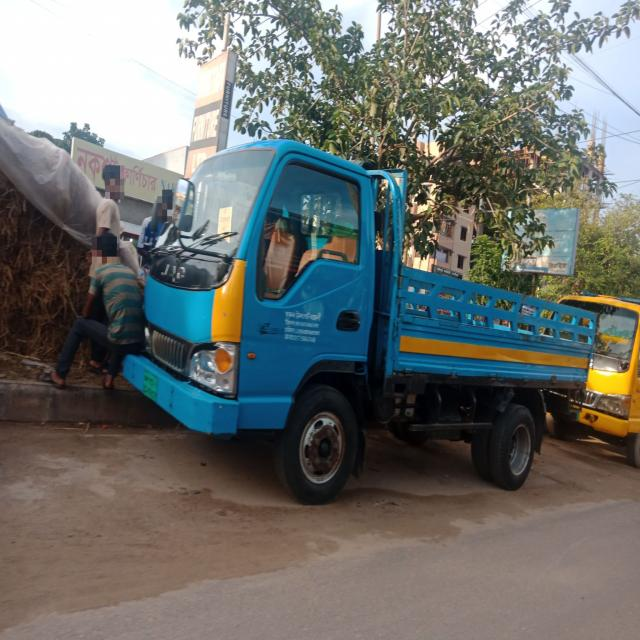truck: (122, 138, 597, 505)
